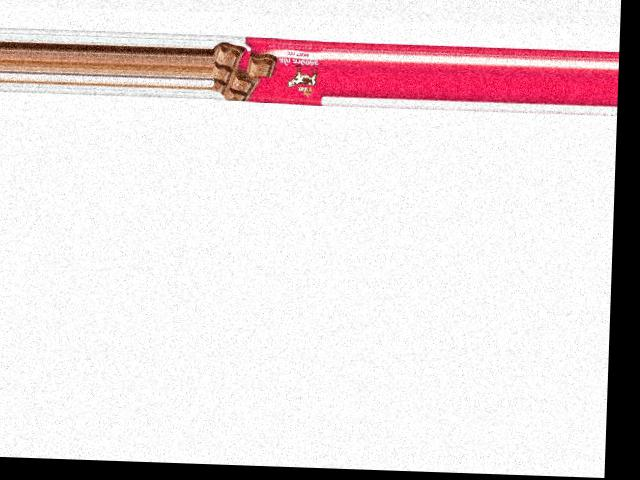chocolate: (212, 34, 326, 103)
